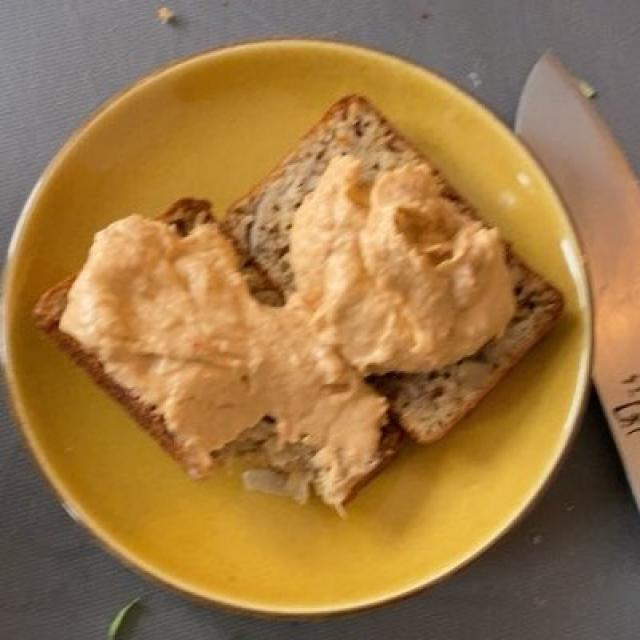cake: (66, 97, 547, 505)
hummus: (80, 158, 499, 487)
